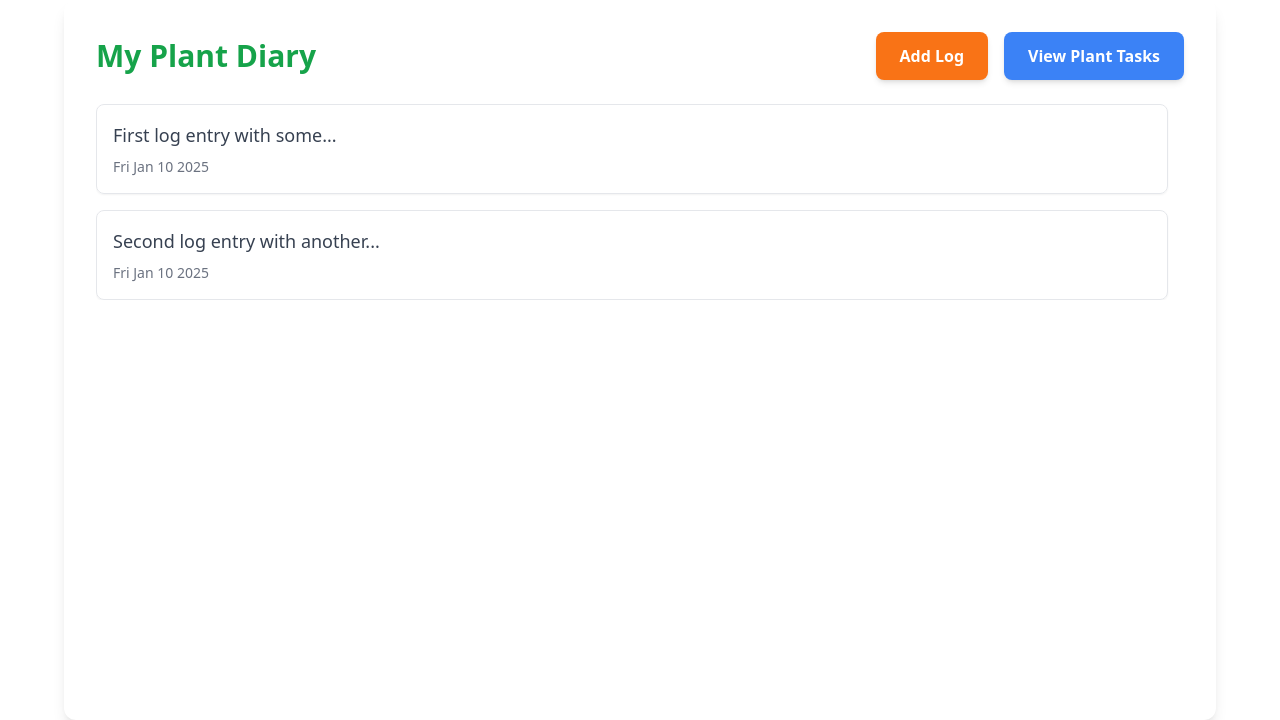
Test: MyDiaryDisplayComponent › opens add log modal when 'Add Log' button is clicked
The image size is (1280, 720).
What coordinates should you click on to do the following:
click the button "Add Log"
I would click on:
 (932, 56)
Its box is [876,32,988,80].
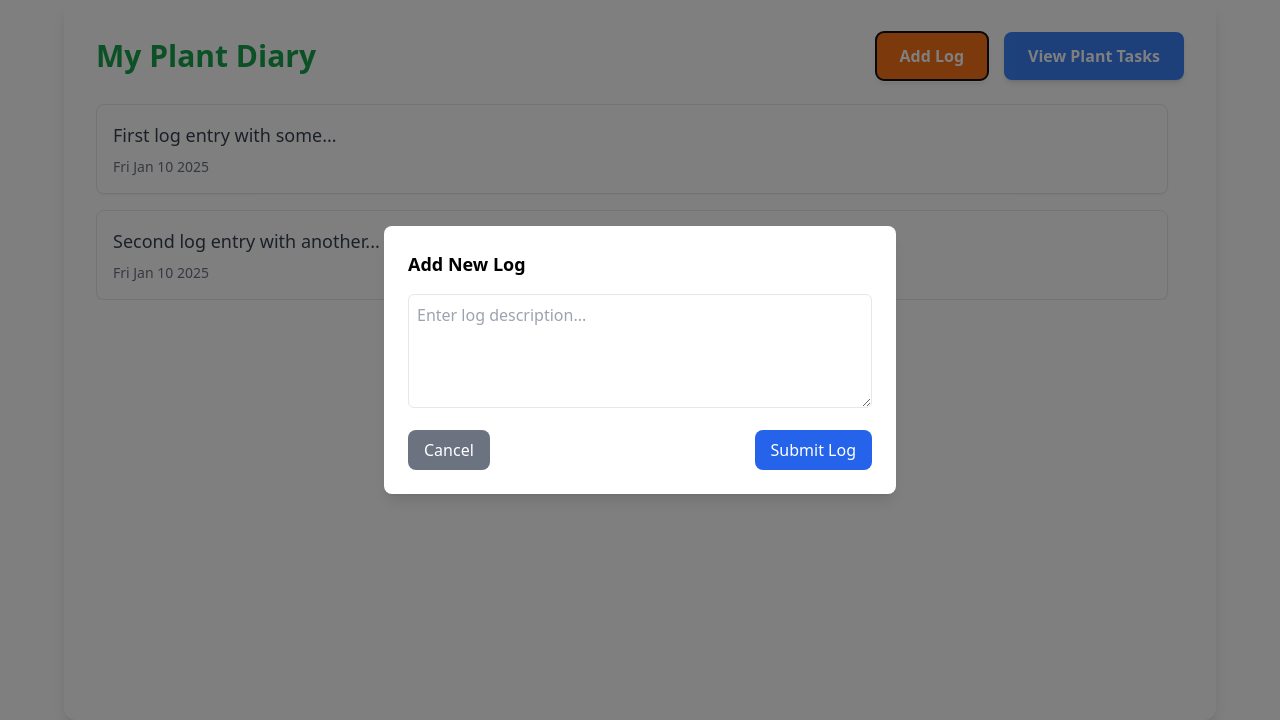
Result: the heading "Add New Log" is shown at [408,252,526,276]
